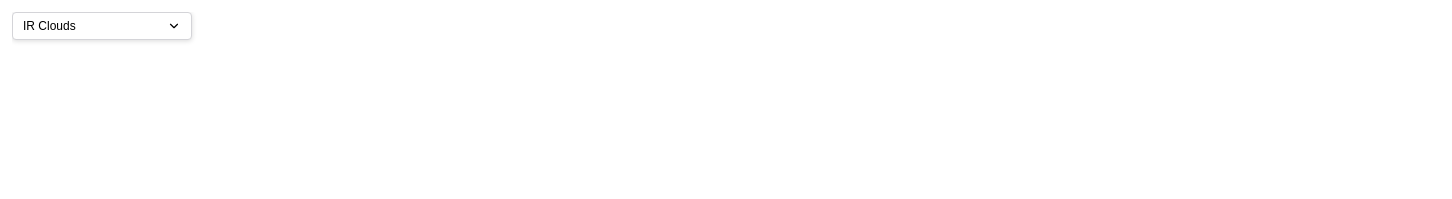
Test case: MultiSelectComposite › closes when clicking outside
Click the button at x=102, y=26, box [12,12,192,40]
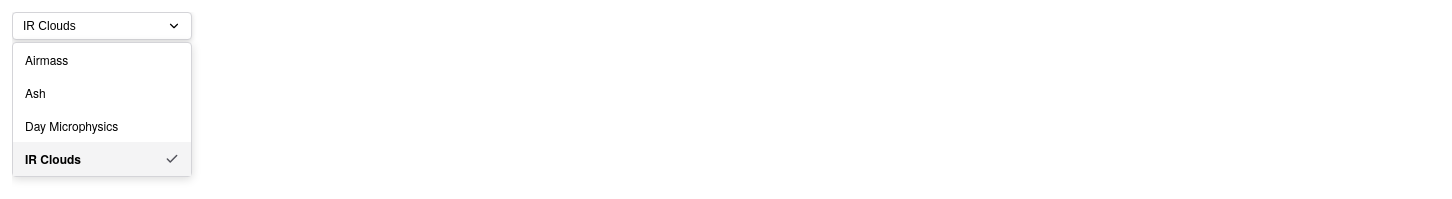
Press the mouse on the element showing "IR Clouds Airmass Ash Day Microphysics IR Clouds" at x=732, y=26, box [12,12,1451,40]
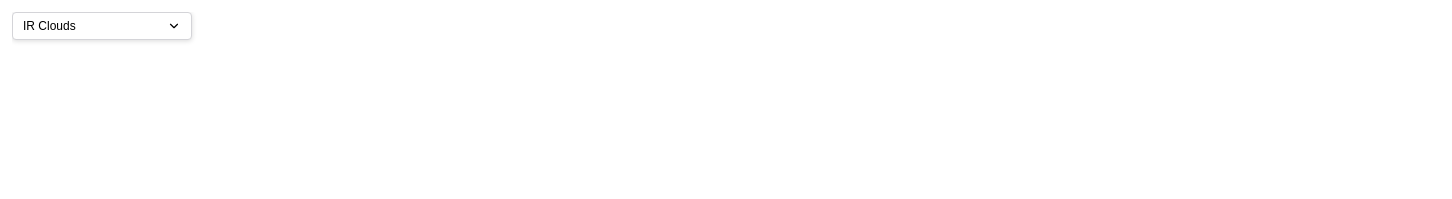
Expected: the text "Airmass" is gone
